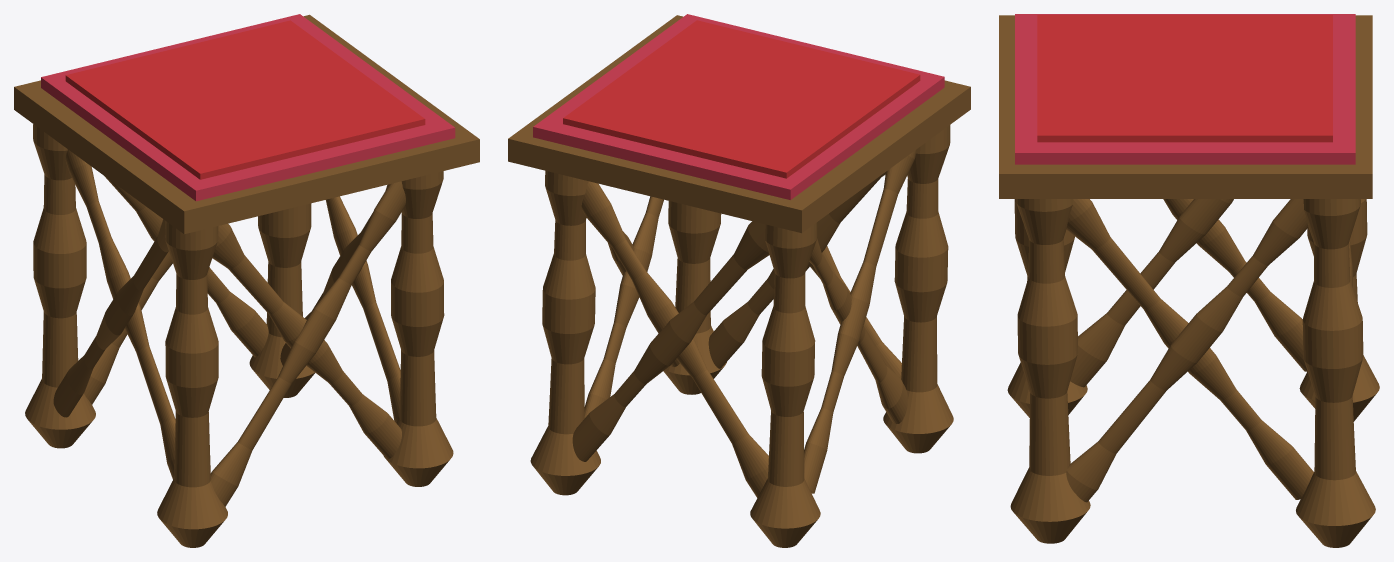
File: chair_1.fbx
3 views of the same model, side by side, from view 1: azimuth 30°, elevation 25°; view 2: azimuth 150°, elevation 25°; view 3: azimuth 270°, elevation 25° (orthographic). The views are drawn at different scales.
Visible parts, largest first — view 1: Cube.002, Cube, Cylinder.005, Cylinder.004, Cylinder.006, Cylinder.000, Cylinder.003, Cylinder.001, Cylinder.011, Cylinder.010, Cylinder.012, Cylinder.007 (+2 smaller); view 2: Cube.002, Cube, Cylinder.006, Cylinder.001, Cylinder.005, Cylinder.007, Cylinder.002, Cylinder.010, Cylinder.004, Cylinder.013, Cylinder.003, Cylinder.011 (+1 smaller); view 3: Cube.002, Cube, Cylinder.001, Cylinder.004, Cylinder.012, Cylinder.013, Cylinder.011, Cylinder.010, Cylinder.006, Cylinder.005.
Boxes of the visible parts, left/top/right/bottom form: Cube.002: left=41, top=14, right=455, bottom=201; Cube: left=14, top=14, right=479, bottom=234; Cylinder.005: left=157, top=221, right=227, bottom=547; Cylinder.004: left=383, top=171, right=453, bottom=486; Cylinder.006: left=25, top=124, right=95, bottom=448; Cylinder.000: left=210, top=181, right=405, bottom=506; Cylinder.003: left=212, top=223, right=401, bottom=459; Cylinder.001: left=249, top=203, right=314, bottom=397; Cylinder.011: left=65, top=149, right=175, bottom=479; Cylinder.010: left=53, top=219, right=168, bottom=417; Cylinder.012: left=326, top=196, right=400, bottom=422; Cylinder.007: left=104, top=176, right=268, bottom=357; Cube.002: left=533, top=14, right=944, bottom=199; Cube: left=508, top=15, right=970, bottom=233; Cylinder.006: left=750, top=222, right=820, bottom=547; Cylinder.001: left=530, top=170, right=600, bottom=495; Cylinder.005: left=883, top=125, right=953, bottom=453; Cylinder.007: left=572, top=221, right=769, bottom=461; Cylinder.002: left=581, top=181, right=768, bottom=497; Cylinder.010: left=804, top=150, right=915, bottom=493; Cylinder.004: left=663, top=201, right=726, bottom=394; Cylinder.013: left=584, top=196, right=663, bottom=417; Cylinder.003: left=708, top=172, right=885, bottom=368; Cylinder.011: left=809, top=238, right=907, bottom=423; Cube.002: left=1015, top=14, right=1355, bottom=164; Cube: left=999, top=15, right=1372, bottom=198; Cylinder.001: left=1296, top=199, right=1375, bottom=547; Cylinder.004: left=1010, top=199, right=1090, bottom=543; Cylinder.012: left=1066, top=199, right=1308, bottom=502; Cylinder.013: left=1066, top=199, right=1313, bottom=499; Cylinder.011: left=1070, top=199, right=1233, bottom=387; Cylinder.010: left=1163, top=199, right=1307, bottom=371; Cylinder.006: left=1299, top=199, right=1379, bottom=421; Cylinder.005: left=1007, top=199, right=1087, bottom=417.
Bounding box in the file's own units: 57.69 × 69.42 × 58.59.
